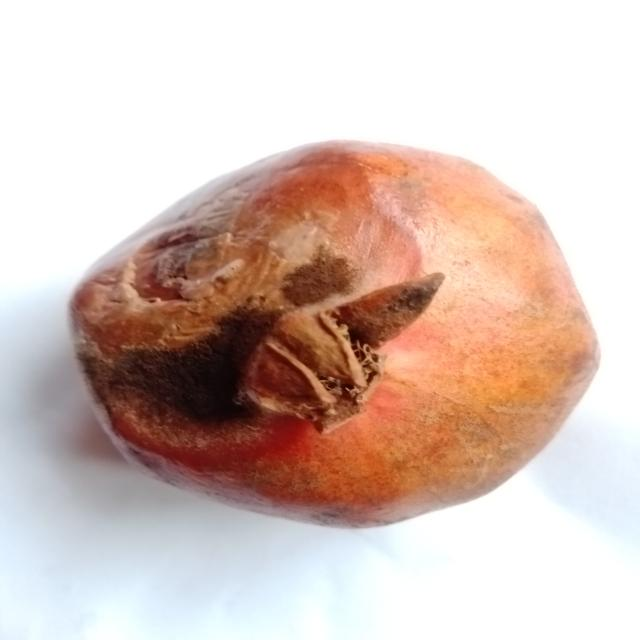Rotten: (64, 135, 605, 534)
